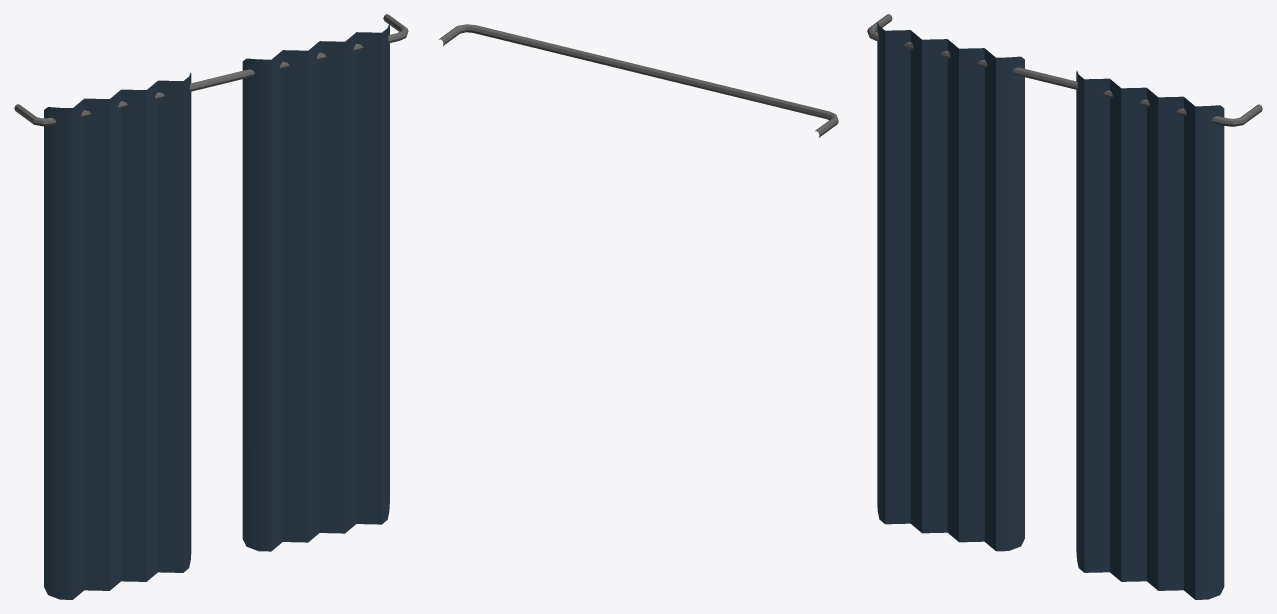
The model's file is q_curtains.glb.
The picture shows the model from 3 angles, left to right: view 1: azimuth 30°, elevation 25°; view 2: azimuth 150°, elevation 25°; view 3: azimuth 330°, elevation 25°; orthographic projection.
Parts seen in each view (by area): view 1: Curtains_Double; view 2: Curtains_Double; view 3: Curtains_Double.
Boxes of the visible parts, box(x1,y1,x2,y2) form: Curtains_Double: box(14, 14, 408, 599); Curtains_Double: box(438, 24, 838, 137); Curtains_Double: box(867, 14, 1262, 599).
Size of the model in its own units: 3.47 by 4.34 by 0.4765.
